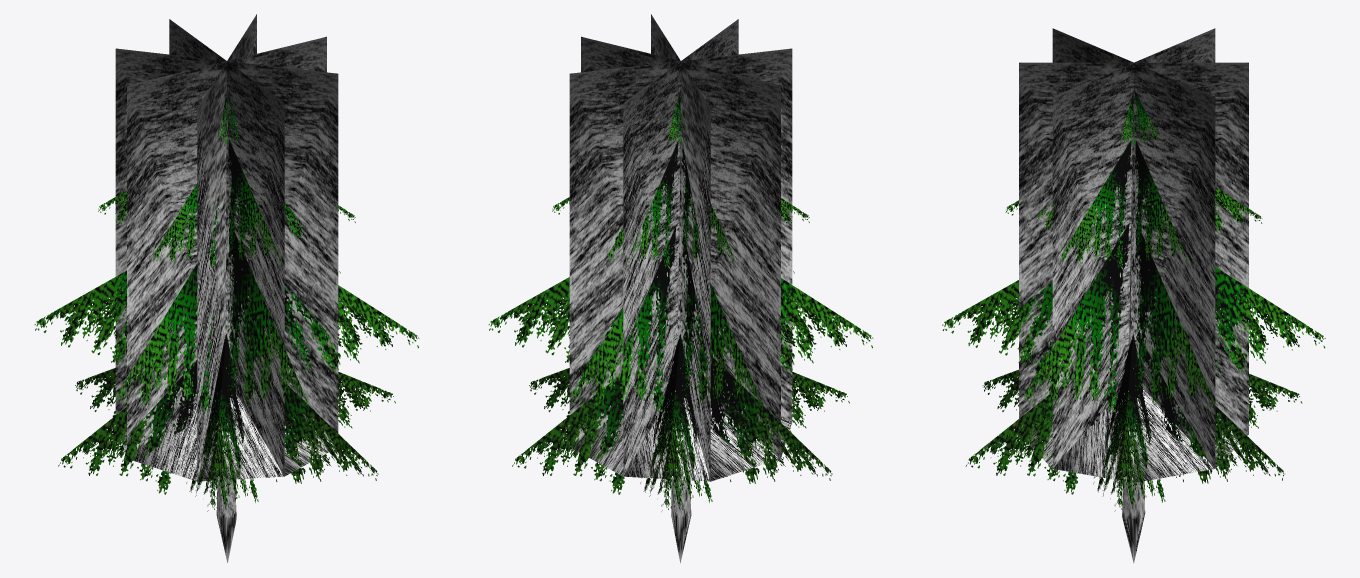
The model's file is fijnspar_1.fbx.
The picture shows the model from 3 angles, left to right: view 1: azimuth 30°, elevation 25°; view 2: azimuth 150°, elevation 25°; view 3: azimuth 270°, elevation 25°; orthographic projection.
Visible parts, largest first — view 1: fijnspar_1; view 2: fijnspar_1; view 3: fijnspar_1.
Boxes of the visible parts, x1,y1,x2,y2 form: fijnspar_1: (34, 14, 419, 562); fijnspar_1: (488, 14, 873, 563); fijnspar_1: (942, 28, 1325, 563).
Bounding box in the file's own units: 276 × 374 × 287.
